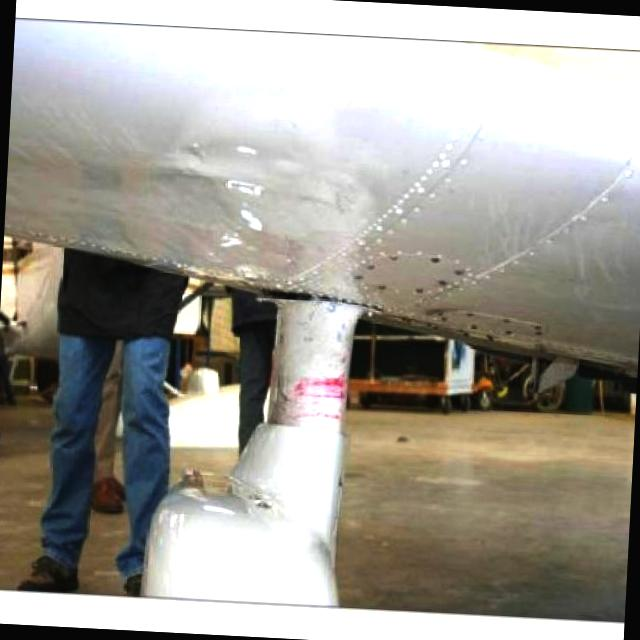dent: (216, 170, 264, 198)
